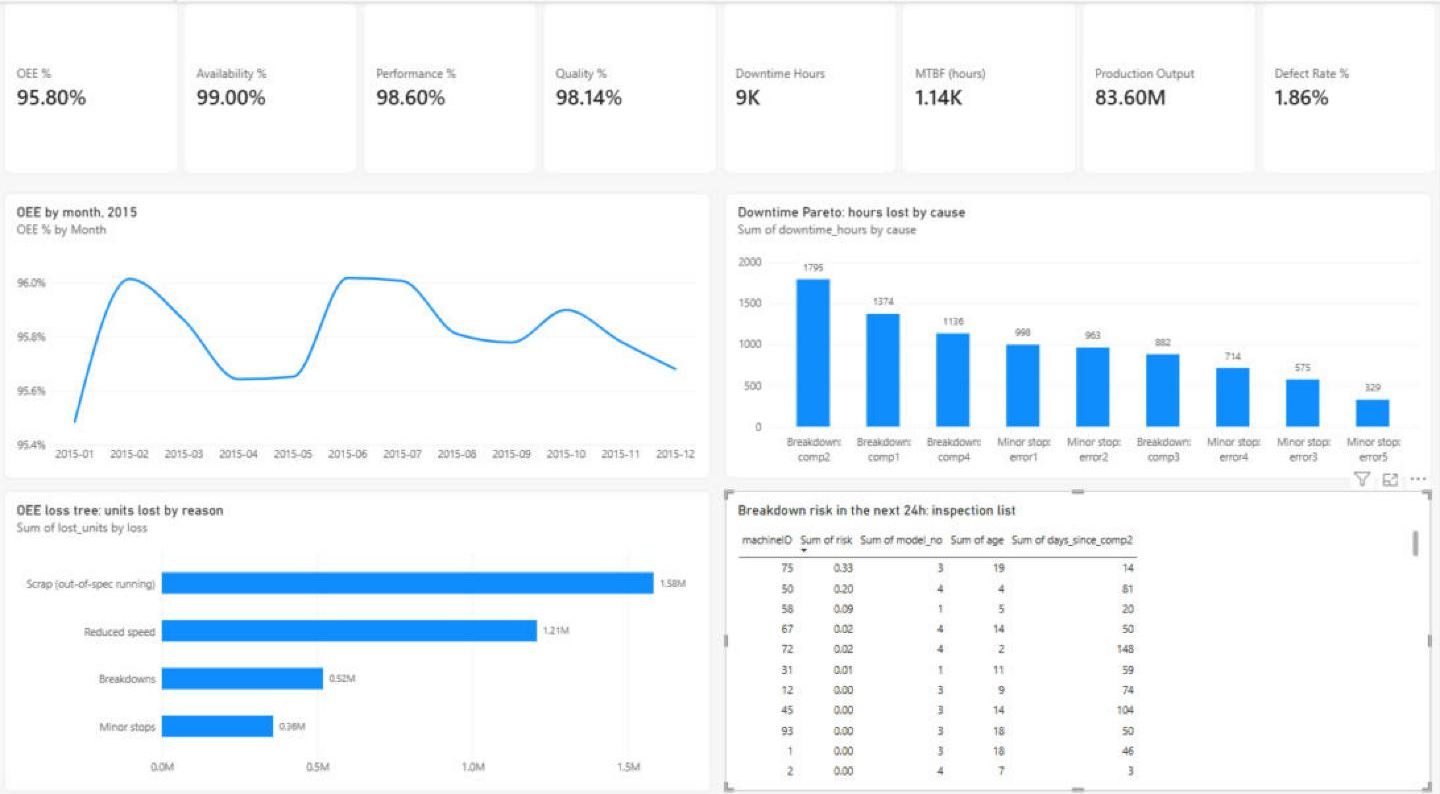

What the dashboard file says about the page in this screenshot:
{"tool":"powerbi","page":{"name":"OEE Overview","canvas":[1920,1080],"ordinal":0},"visuals":[{"type":"cardVisual","fields":{"Data":["dim_machine.OEE %","fact_machine_day.Availability %","dim_machine.Performance %","dim_machine.Quality %","dim_machine.Downtime Hours","dim_machine.MTBF (hours)","dim_machine.Production Output","dim_machine.Defect Rate %"]},"box":[10.6,0,1910,228.8],"z":0},{"type":"lineChart","title":"OEE by month, 2015","fields":{"Category":["fact_machine_day.Month"],"Y":["dim_machine.OEE %"]},"box":[11,254.5,940,380],"z":1000},{"type":"lineClusteredColumnComboChart","title":"Downtime Pareto: hours lost by cause","fields":{"Category":["downtime_pareto.cause"],"Y":["Sum(downtime_pareto.downtime_hours)"]},"box":[969,254,940,380],"z":1001},{"type":"clusteredBarChart","title":"OEE loss tree: units lost by reason","fields":{"Category":["loss_tree.loss"],"Y":["Sum(loss_tree.lost_units)"]},"box":[11,650,940,400],"z":1002},{"type":"tableEx","title":"Breakdown risk in the next 24h: inspection list","fields":{"Values":["risk_scores.machineID","Sum(risk_scores.risk)","Sum(risk_scores.model_no)","Sum(risk_scores.age)","Sum(risk_scores.days_since_comp2)"]},"box":[969,650,940,400],"z":1003}]}

Visuals, with their boxes in screenshot pixels (x1, y1, x2, y2), scaled from the page's 1920x1080 canvas onto the 1440x794 screenshot:
cardVisual - dim_machine.OEE % x fact_machine_day.Availability %: <region>8, 0, 1439, 168</region>
"OEE by month, 2015" lineChart: <region>8, 187, 713, 466</region>
"Downtime Pareto: hours lost by cause" lineClusteredColumnComboChart: <region>727, 187, 1432, 466</region>
"OEE loss tree: units lost by reason" clusteredBarChart: <region>8, 478, 713, 772</region>
"Breakdown risk in the next 24h: inspection list" tableEx: <region>727, 478, 1432, 772</region>
